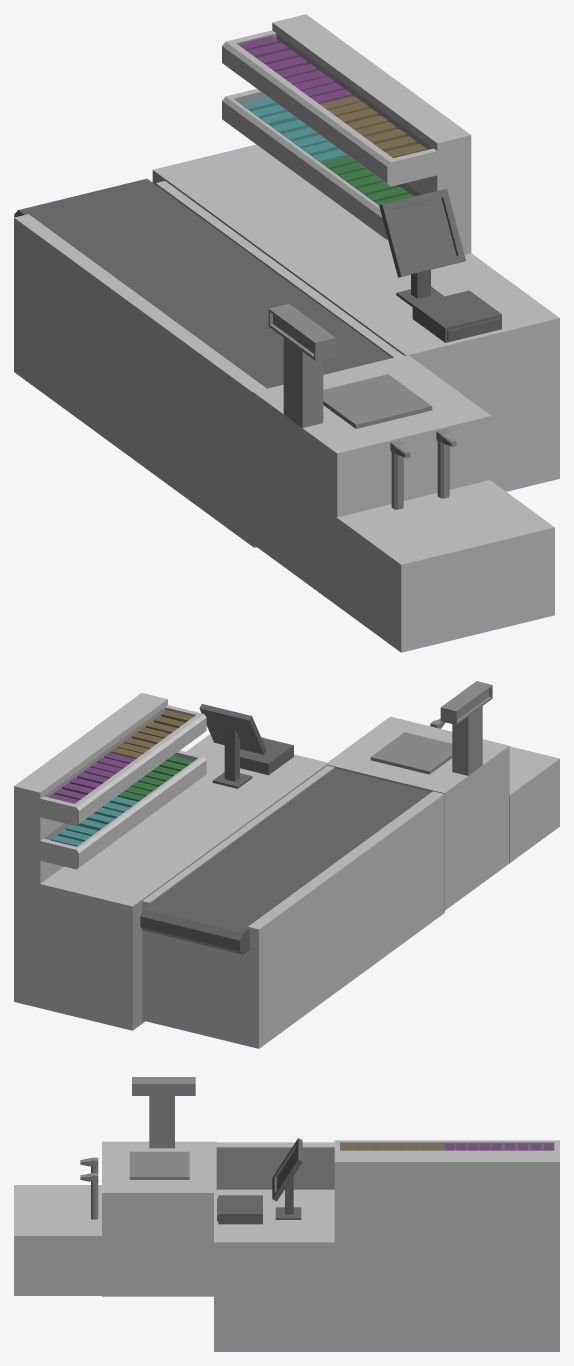
File: Registers.fbx
3 views of the same model, one above another, from view 1: azimuth 30°, elevation 25°; view 2: azimuth 150°, elevation 25°; view 3: azimuth 270°, elevation 25° (orthographic). The views are drawn at different scales.
Parts seen in each view (by area): view 1: register_base1, Conveyer_base, Scaner, Bagging_base, Conveyer, register_screen, weight, register, Bag_holder_part1, Bag_holder_part, register_stand; view 2: register_base1, Conveyer_base, Conveyer, Scaner, Bagging_base, weight, register_screen, register, register_stand; view 3: register_base1, Scaner, Bagging_base, Conveyer, weight, register, Conveyer_base, register_screen, register_stand, Bag_holder_part1.
Part boxes in pixels (x1,y1,x2,y2): register_base1: (152,14,559,491); Conveyer_base: (14,181,402,547); Scaner: (253,303,491,604); Bagging_base: (336,480,554,652); Conveyer: (14,178,391,388); register_screen: (379,188,465,277); weight: (323,374,432,428); register: (412,290,501,342); Bag_holder_part1: (436,429,456,498); Bag_holder_part: (390,440,410,509); register_stand: (396,270,444,306); register_base1: (14,693,328,1030); Conveyer_base: (142,765,444,1048); Conveyer: (140,768,431,954); Scaner: (327,681,509,910); Bagging_base: (509,746,559,863); weight: (370,732,452,774); register_screen: (199,704,266,754); register: (240,737,293,775); register_stand: (212,725,252,788); register_base1: (214,1140,559,1351); Scaner: (102,1077,216,1296); Bagging_base: (14,1185,101,1295); Conveyer: (216,1148,334,1189); weight: (129,1151,189,1179); register: (217,1195,262,1224); Conveyer_base: (216,1142,334,1191); register_screen: (272,1138,302,1201); register_stand: (275,1176,301,1219); Bag_holder_part1: (80,1173,98,1219).
Size of the model in its own units: 9.44 by 8.23 by 21.44.
